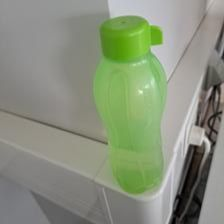bottle: (89, 10, 165, 195)
